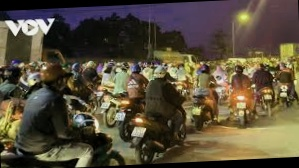Bien-so: (119, 127, 136, 140), (106, 110, 118, 121), (95, 96, 106, 105), (225, 114, 234, 122), (252, 110, 259, 116), (268, 110, 275, 116)
